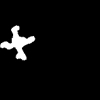single_crochet: (0, 26, 34, 59)
